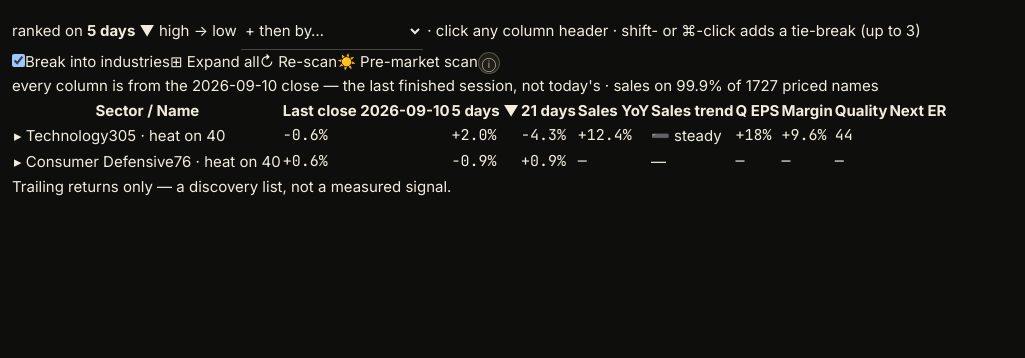
Test: HottestSectors board › opens a cold sector into a THIN industry and finds ANDE
The image size is (1025, 358).
Click the button "▸ Consumer Defensive" at (94,161), box [14,150,174,173]
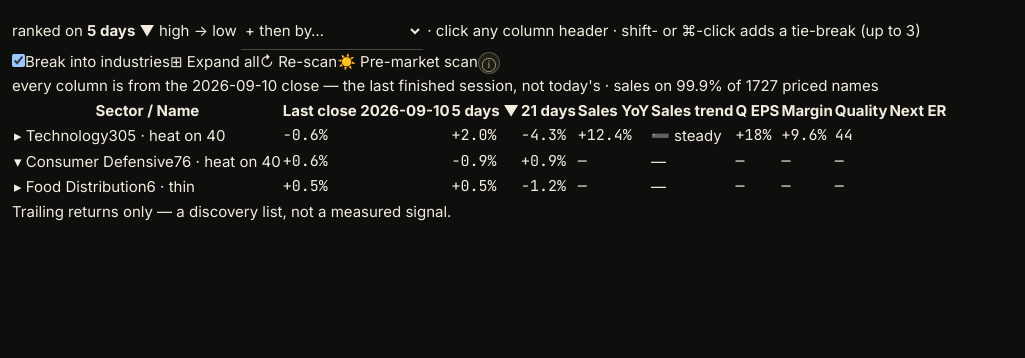
expect the text titled "6 names · full membership" is shown: met, box [147,177,195,196]
Click the button "▸ Food Distribution" at (80,187), box [14,175,147,198]
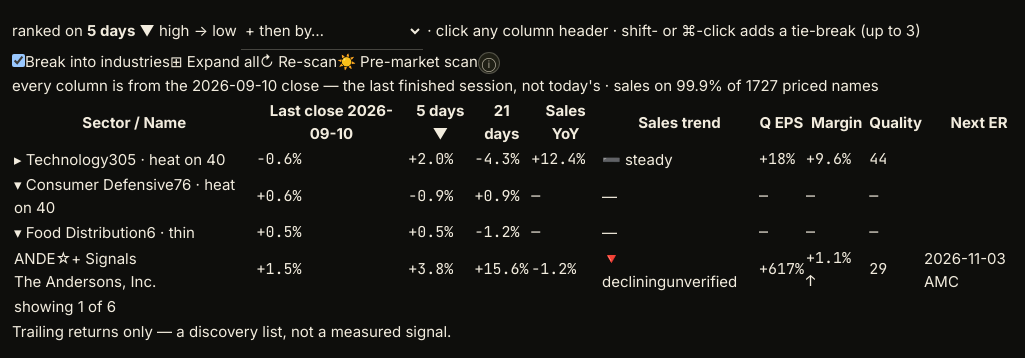
expect the link "ANDE" is shown: met, box [14,249,56,268]
expect the link "The Andersons, Inc." is shown: met, box [14,272,156,291]
